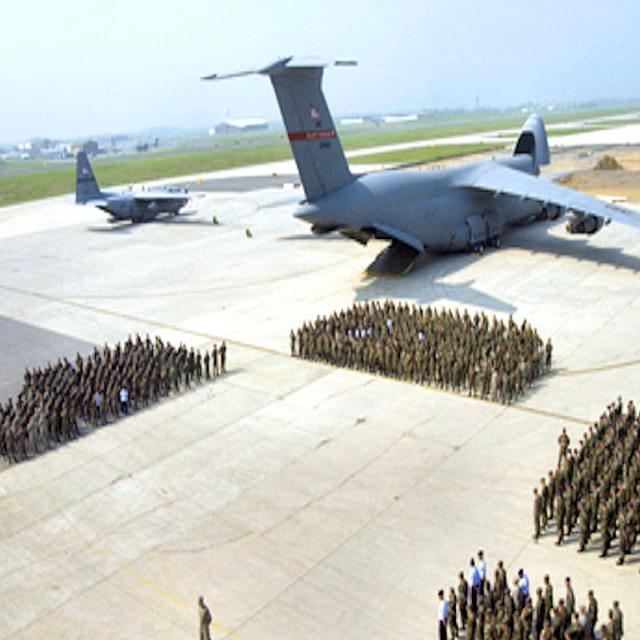MIL_Plane: (221, 53, 617, 279), (64, 151, 206, 224)
